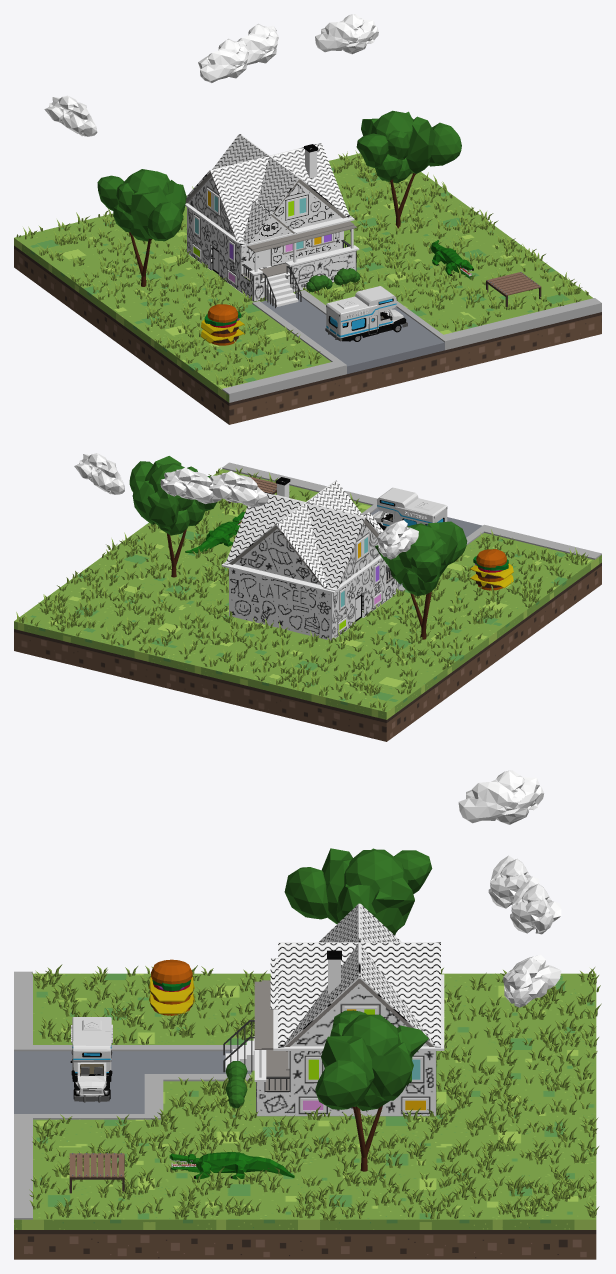
The picture shows the model from 3 angles, top to bottom: view 1: azimuth 30°, elevation 25°; view 2: azimuth 150°, elevation 25°; view 3: azimuth 270°, elevation 25°; orthographic projection. The views are drawn at different scales.
Parts seen in each view (by area): view 1: Cube.006, Cube.879, Circle.012_Grass_0.192, Cube.007, tree, tree.001, VEHICLES_CAMPER, OBJRANDOM_HAMBURGER, Cube.009, ANIMAL_COCODRILO; view 2: Cube.006, Cube.879, Circle.012_Grass_0.192, Cube.007, tree.001, tree, VEHICLES_CAMPER, OBJRANDOM_HAMBURGER, ANIMAL_COCODRILO; view 3: Cube.006, Circle.012_Grass_0.192, Cube.879, tree, Cube.007, tree.001, VEHICLES_CAMPER, OBJRANDOM_HAMBURGER, ANIMAL_COCODRILO, Cube.009.
Part boxes in pixels (bbox=[...]): Cube.006: bbox=[14, 153, 601, 424]; Cube.879: bbox=[185, 134, 359, 308]; Circle.012_Grass_0.192: bbox=[16, 150, 588, 386]; Cube.007: bbox=[44, 14, 378, 136]; tree: bbox=[356, 110, 461, 228]; tree.001: bbox=[97, 169, 186, 286]; VEHICLES_CAMPER: bbox=[325, 286, 407, 341]; OBJRANDOM_HAMBURGER: bbox=[201, 304, 244, 345]; Cube.009: bbox=[486, 272, 541, 306]; ANIMAL_COCODRILO: bbox=[431, 240, 473, 278]; Cube.006: bbox=[14, 462, 601, 741]; Cube.879: bbox=[221, 477, 398, 640]; Circle.012_Grass_0.192: bbox=[16, 468, 588, 711]; Cube.007: bbox=[74, 453, 418, 559]; tree.001: bbox=[375, 521, 467, 639]; tree: bbox=[129, 456, 216, 577]; VEHICLES_CAMPER: bbox=[372, 487, 447, 530]; OBJRANDOM_HAMBURGER: bbox=[469, 549, 513, 590]; ANIMAL_COCODRILO: bbox=[185, 511, 244, 553]; Cube.006: bbox=[14, 971, 596, 1259]; Circle.012_Grass_0.192: bbox=[29, 964, 601, 1220]; Cube.879: bbox=[223, 903, 444, 1116]; tree: bbox=[315, 1010, 428, 1171]; Cube.007: bbox=[458, 770, 561, 1007]; tree.001: bbox=[284, 848, 432, 935]; VEHICLES_CAMPER: bbox=[70, 1017, 112, 1102]; OBJRANDOM_HAMBURGER: bbox=[149, 959, 194, 1015]; ANIMAL_COCODRILO: bbox=[169, 1152, 294, 1179]; Cube.009: bbox=[69, 1153, 124, 1193].
Size of the model in its own units: 4071 by 2179 by 4040.
41 materials, 10 textured.
